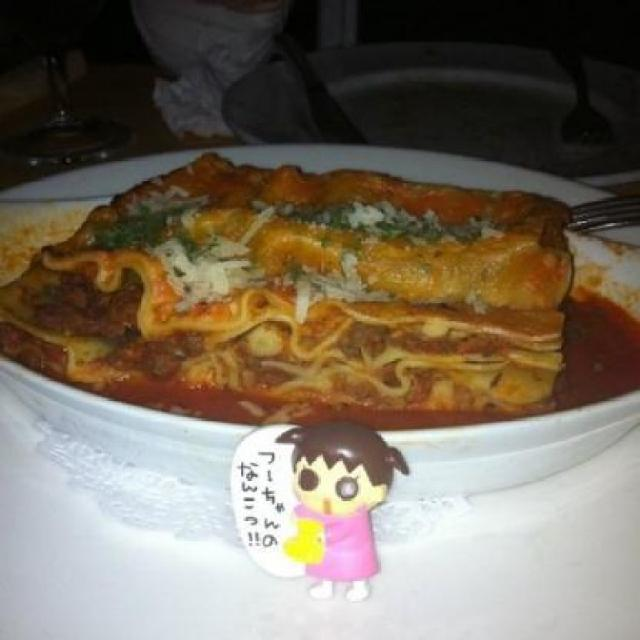Lasagna: (54, 126, 596, 428)
